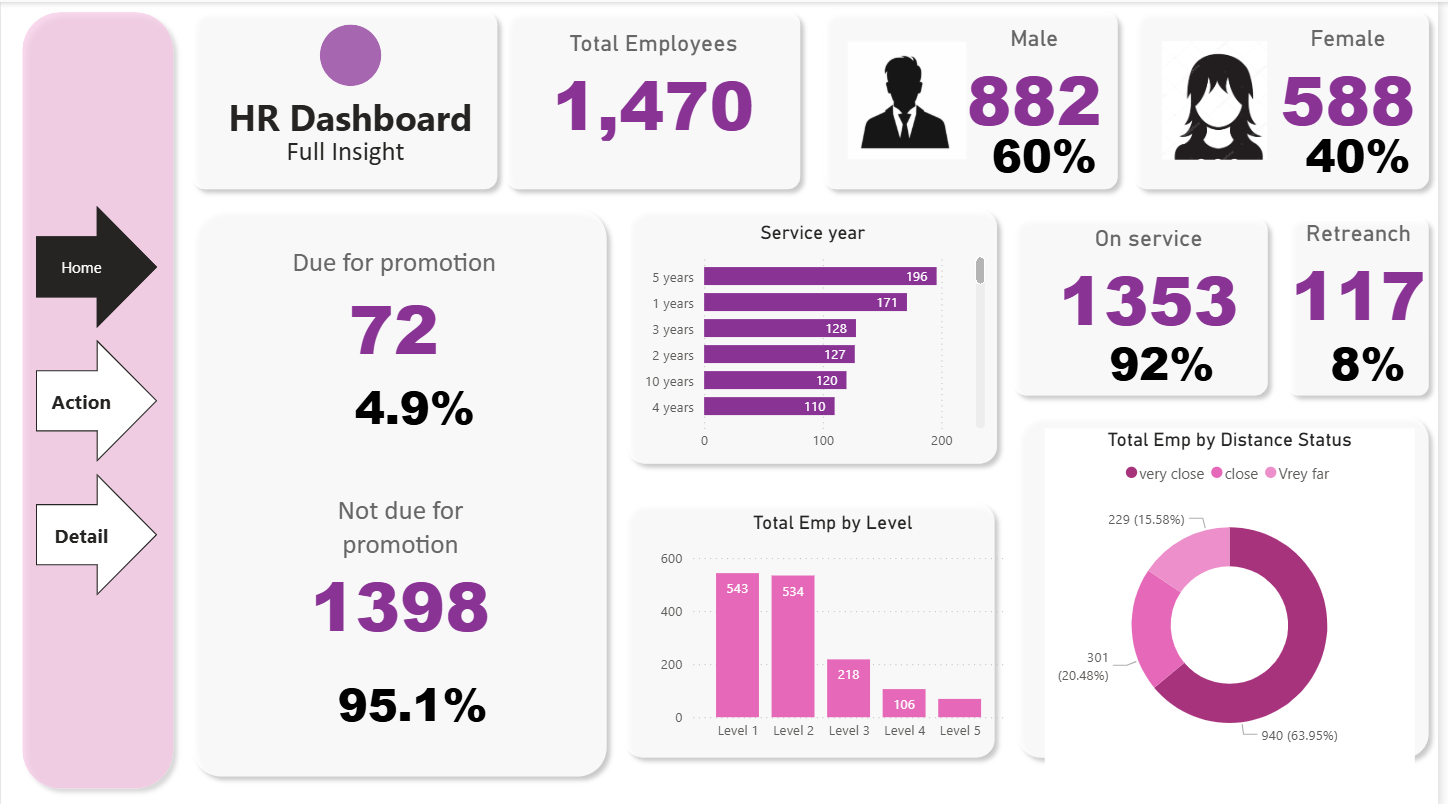

What the dashboard file says about the page in this screenshot:
{"tool":"powerbi","page":{"name":"Home","canvas":[1280,720],"ordinal":0},"visuals":[{"type":"shape","box":[9.6,0,152.3,709.4],"z":0},{"type":"shape","box":[161.9,0,289.5,175.6],"z":1000},{"type":"shape","box":[440.5,0,279.9,175.6],"z":2000},{"type":"shape","box":[723.2,0,279.9,175.6],"z":3000},{"type":"shape","box":[1000.3,0,279.9,175.6],"z":4000},{"type":"shape","box":[161.9,175.6,387,522.8],"z":5000},{"type":"shape","box":[548.9,175.6,347.2,244.3],"z":6000},{"type":"shape","box":[546.1,437.7,347.2,244.3],"z":7000},{"type":"shape","box":[893.3,183.9,244.3,175.6],"z":8000},{"type":"shape","box":[896.1,359.5,384.2,322.5],"z":9000},{"type":"shape","box":[1137.6,183.9,142.7,175.6],"z":10000},{"type":"textbox","box":[181.1,75.5,259.3,53.5],"z":11000},{"type":"textbox","box":[194.9,112.5,223.7,63.1],"z":12000},{"type":"shape","box":[284,20.6,54.9,54.9],"z":13000},{"type":"card","title":"Total Employees","fields":{"Values":["All Measures.Total Emp"]},"box":[472,24.7,218.2,104.3],"z":14000},{"type":"card","title":"Male","fields":{"Values":["All Measures.Male"]},"box":[848,20.6,144.1,104.3],"z":15000},{"type":"card","title":"Male","fields":{"Values":["All Measures.% male"]},"box":[865.9,87.8,126.2,96.1],"z":16000},{"type":"card","title":"Female","fields":{"Values":["All Measures.Female"]},"box":[1128,20.6,144.1,104.3],"z":17000},{"type":"card","title":"Male","fields":{"Values":["All Measures.% Female"]},"box":[1145.8,87.8,126.2,96.1],"z":18000},{"type":"image","box":[749.2,26.1,115,123.5],"z":19000},{"type":"image","box":[1022.3,30.2,118,115.3],"z":20000},{"type":"card","title":"Not due for promotion","fields":{"Values":["All Measures.Not due"]},"box":[255.2,437.7,201.7,134.5],"z":21000},{"type":"card","title":"Not due for promotion","fields":{"Values":["All Measures.% Not due"]},"box":[281.3,591.4,170.2,67.2],"z":22000},{"type":"card","title":"Due for promotion","fields":{"Values":["All Measures.Due for Promotion"]},"box":[249.7,215.4,201.7,113.9],"z":23000},{"type":"card","title":"Not due for promotion","fields":{"Values":["All Measures.% Due for promotion"]},"box":[297.8,311.5,142.7,97.4],"z":24000},{"type":"barChart","title":"Service year","fields":{"Category":["HR Analytics Data.Service year"],"Y":["All Measures.Total Emp"]},"box":[564,194.9,317,214.1],"z":25000},{"type":"columnChart","title":"Total Emp by Level","fields":{"Category":["HR Analytics Data.Job Levels"],"Y":["All Measures.Total Emp"]},"box":[581.8,452.8,317,214.1],"z":26000},{"type":"card","title":"On service","fields":{"Values":["All Measures.On Service"]},"box":[926.2,197.6,192.1,104.3],"z":27000},{"type":"card","title":"Male","fields":{"Values":["All Measures.% On service"]},"box":[949.6,273.1,168.8,96.1],"z":28000},{"type":"card","title":"Retreanch","fields":{"Values":["All Measures.Will be retreanched"]},"box":[1137.6,193.5,142.7,104.3],"z":29000},{"type":"card","title":"Male","fields":{"Values":["All Measures.% will be retreanched"]},"box":[1154,273.1,126.2,96.1],"z":30000},{"type":"donutChart","fields":{"Category":["HR Analytics Data.Distance Status"],"Y":["All Measures.Total Emp"]},"box":[929,380.1,329.3,301.9],"z":31000},{"type":"pageNavigator","box":[31.6,181.1,108.4,349.9],"z":32000}]}

Visuals, with their boxes in screenshot pixels (x1, y1, x2, y2), scaled from the page's 1280x720 canvas onto the 1448x804 screenshot:
shape: left=11, top=0, right=183, bottom=792
shape: left=183, top=0, right=511, bottom=196
shape: left=498, top=0, right=815, bottom=196
shape: left=818, top=0, right=1135, bottom=196
shape: left=1132, top=0, right=1447, bottom=196
shape: left=183, top=196, right=621, bottom=780
shape: left=621, top=196, right=1014, bottom=469
shape: left=618, top=489, right=1011, bottom=762
shape: left=1011, top=205, right=1287, bottom=401
shape: left=1014, top=401, right=1447, bottom=762
shape: left=1287, top=205, right=1447, bottom=401
textbox: left=205, top=84, right=498, bottom=144
textbox: left=220, top=126, right=474, bottom=196
shape: left=321, top=23, right=383, bottom=84
"Total Employees" card: left=534, top=28, right=781, bottom=144
"Male" card: left=959, top=23, right=1122, bottom=139
"Male" card: left=980, top=98, right=1122, bottom=205
"Female" card: left=1276, top=23, right=1439, bottom=139
"Male" card: left=1296, top=98, right=1439, bottom=205
image: left=848, top=29, right=978, bottom=167
image: left=1156, top=34, right=1290, bottom=162
"Not due for promotion" card: left=289, top=489, right=517, bottom=639
"Not due for promotion" card: left=318, top=660, right=511, bottom=735
"Due for promotion" card: left=282, top=241, right=511, bottom=368
"Not due for promotion" card: left=337, top=348, right=498, bottom=457
"Service year" barChart: left=638, top=218, right=997, bottom=457
"Total Emp by Level" columnChart: left=658, top=506, right=1017, bottom=745
"On service" card: left=1048, top=221, right=1265, bottom=337
"Male" card: left=1074, top=305, right=1265, bottom=412
"Retreanch" card: left=1287, top=216, right=1447, bottom=333
"Male" card: left=1305, top=305, right=1447, bottom=412
donutChart - HR Analytics Data.Distance Status x All Measures.Total Emp: left=1051, top=424, right=1423, bottom=762
pageNavigator: left=36, top=202, right=158, bottom=593
